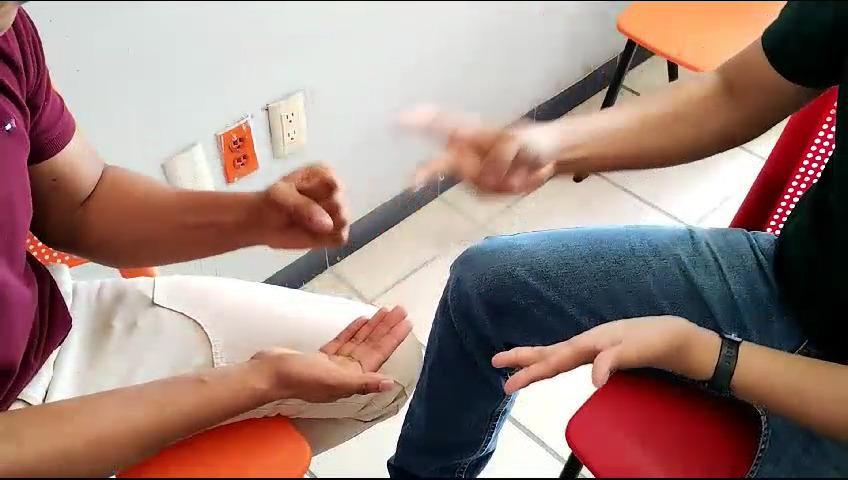Scissor: (396, 99, 575, 213)
Stone: (257, 151, 363, 262)
